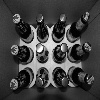beer: (8, 13, 35, 43)
